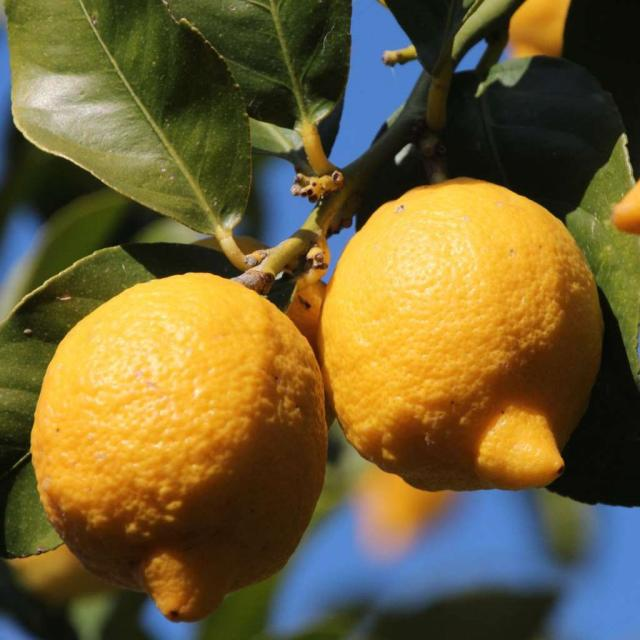lemon: (22, 269, 330, 622), (328, 179, 596, 498)
